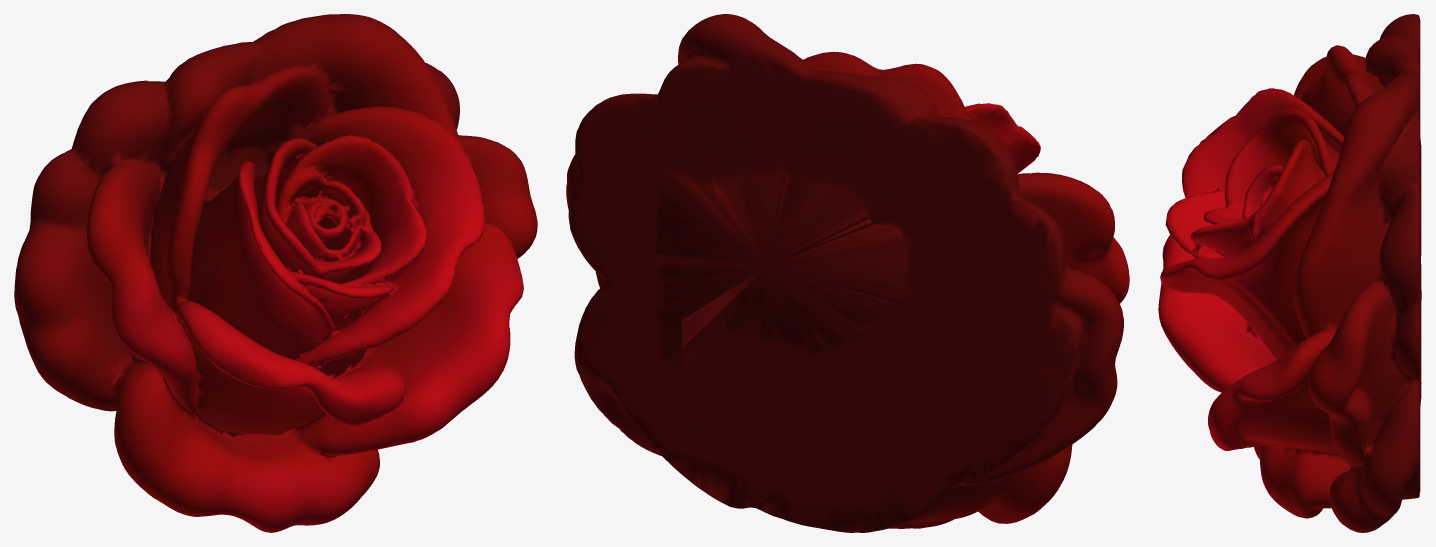
The model's file is rose.glb.
The picture shows the model from 3 angles, left to right: view 1: azimuth 30°, elevation 25°; view 2: azimuth 150°, elevation 25°; view 3: azimuth 270°, elevation 25°; orthographic projection. The views are drawn at different scales.
Visible parts, largest first — view 1: rose; view 2: rose; view 3: rose.
Boxes of the visible parts, left/top/right/bottom form: rose: left=14, top=14, right=537, bottom=532; rose: left=566, top=14, right=1129, bottom=532; rose: left=1158, top=14, right=1421, bottom=532.
Bounding box in the file's own units: 1 × 0.8727 × 0.4622.
